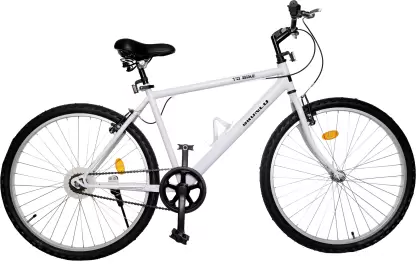cycle: (2, 1, 416, 261)
